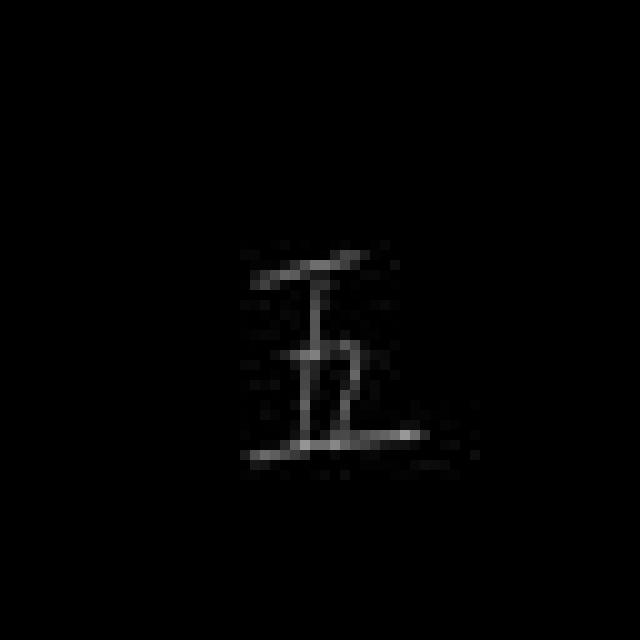5 -five-: (247, 243, 427, 475)
